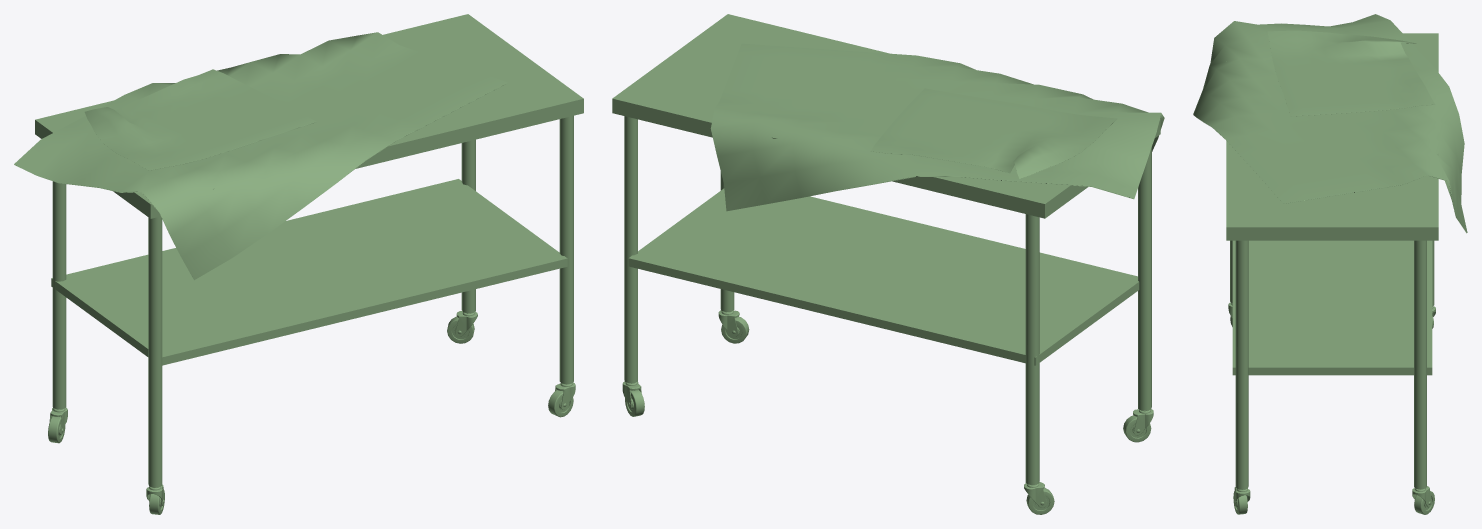
File: Table 1.fbx
3 views of the same model, side by side, from view 1: azimuth 30°, elevation 25°; view 2: azimuth 150°, elevation 25°; view 3: azimuth 270°, elevation 25° (orthographic). The views are drawn at different scales.
Visible parts, largest first — view 1: Furniture_Table_01:Furniture_Table_01, Furniture_Table_01:Furniture_BottomSheet_01, Furniture_Table_01:Furniture_TopSheet_01; view 2: Furniture_Table_01:Furniture_Table_01, Furniture_Table_01:Furniture_BottomSheet_01, Furniture_Table_01:Furniture_TopSheet_01; view 3: Furniture_Table_01:Furniture_Table_01, Furniture_Table_01:Furniture_BottomSheet_01, Furniture_Table_01:Furniture_TopSheet_01.
Boxes of the visible parts, x1,y1,x2,y2 form: Furniture_Table_01:Furniture_Table_01: [35, 14, 583, 514]; Furniture_Table_01:Furniture_BottomSheet_01: [14, 32, 507, 280]; Furniture_Table_01:Furniture_TopSheet_01: [84, 69, 316, 170]; Furniture_Table_01:Furniture_Table_01: [612, 14, 1160, 514]; Furniture_Table_01:Furniture_BottomSheet_01: [710, 43, 1164, 211]; Furniture_Table_01:Furniture_TopSheet_01: [870, 88, 1117, 179]; Furniture_Table_01:Furniture_Table_01: [1226, 33, 1438, 514]; Furniture_Table_01:Furniture_BottomSheet_01: [1193, 14, 1467, 233]; Furniture_Table_01:Furniture_TopSheet_01: [1267, 30, 1435, 116].
Size of the model in its own units: 19.51 by 12.8 by 10.34.
